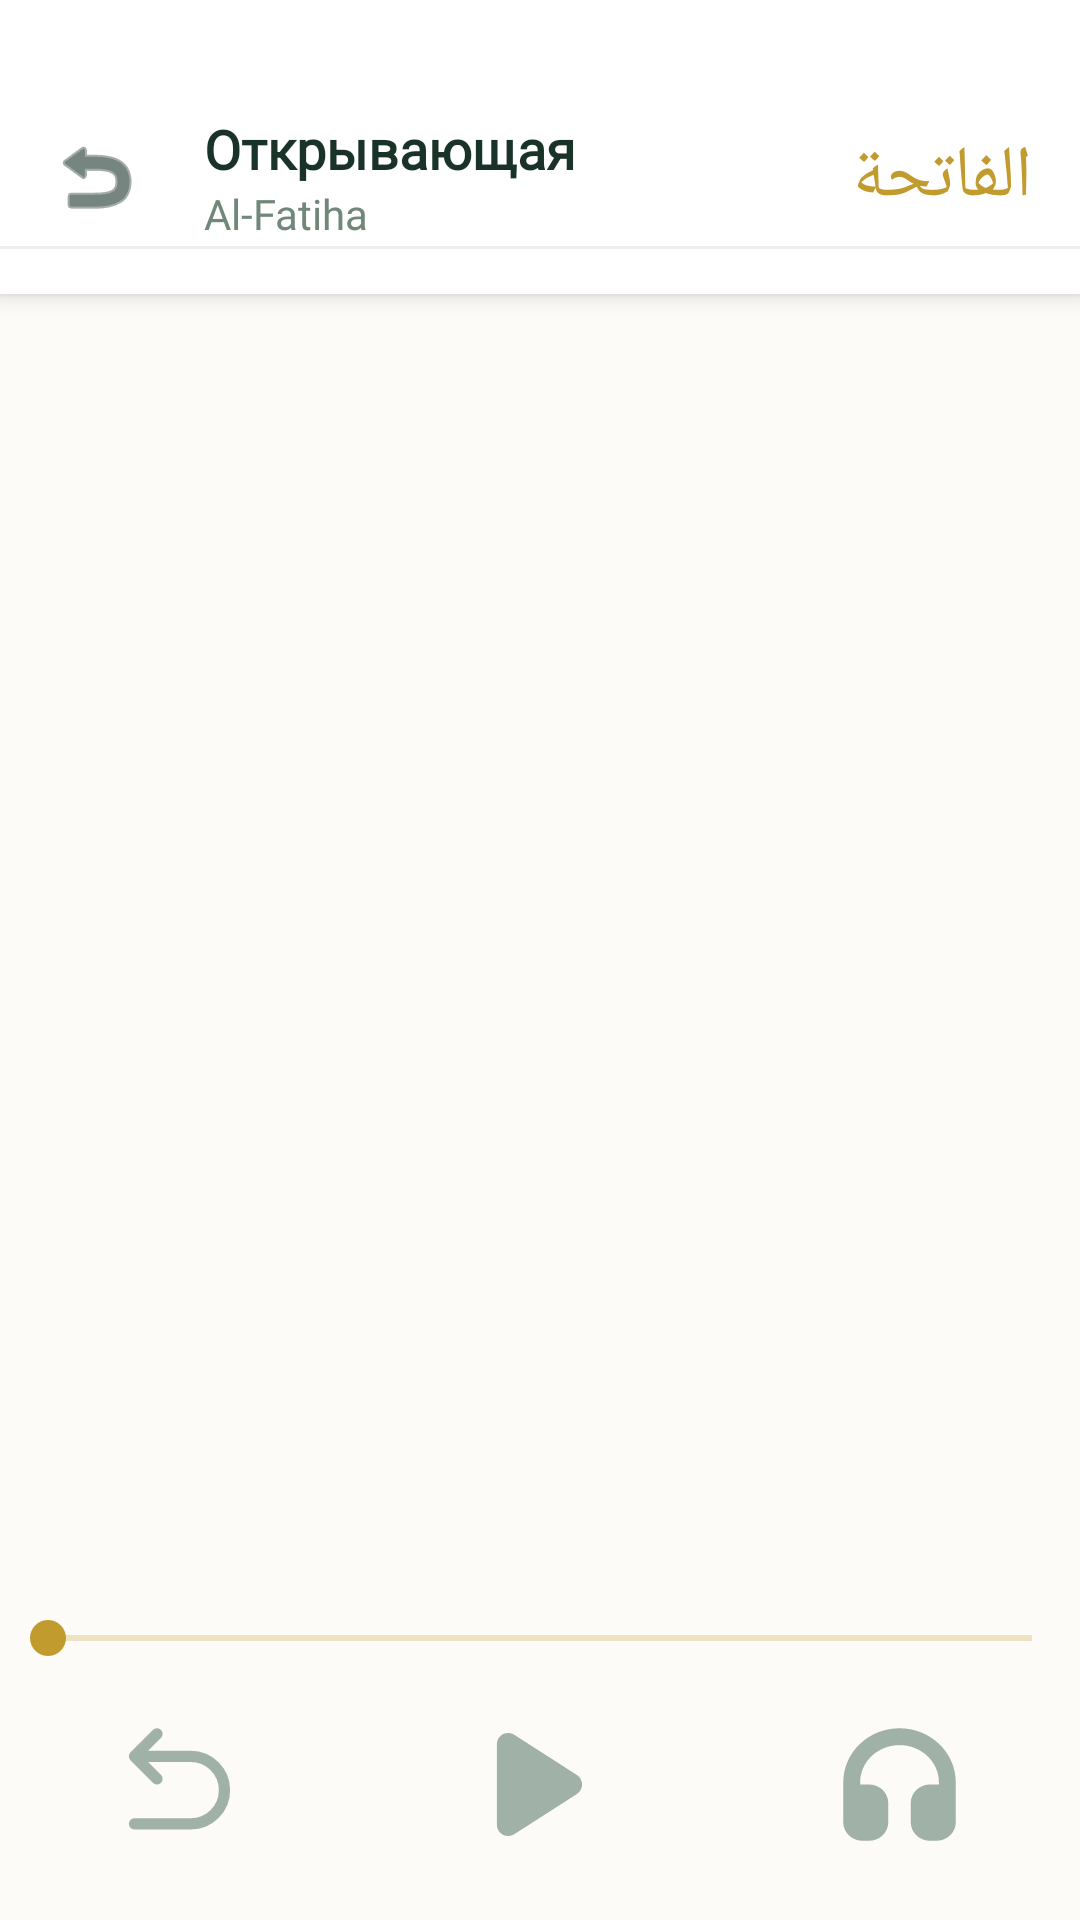

Icons on this 1080*1920 Android screen, each with its box as Rect(x1, y1, x2, y2):
Play/Pause: Rect(497, 1733, 582, 1836)
Назад: Rect(63, 146, 132, 209)
